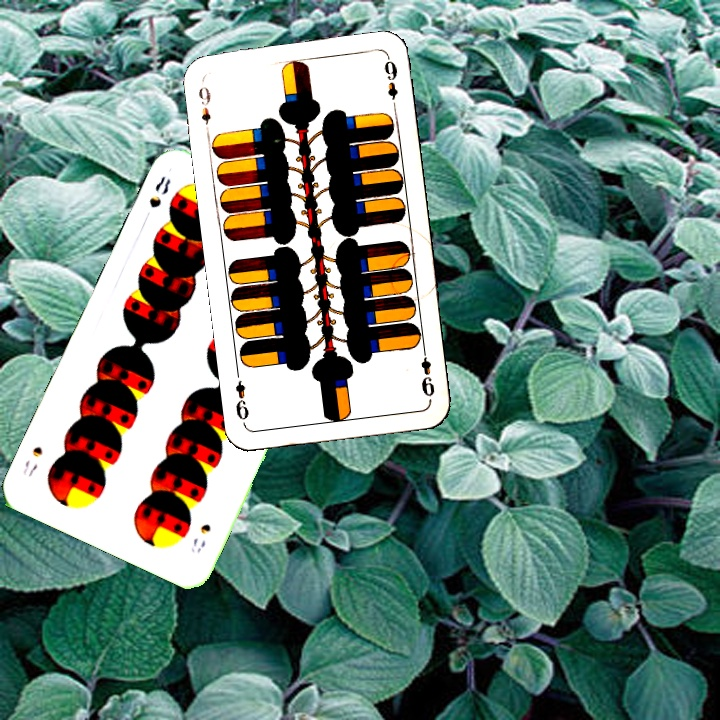E9: (416, 343, 438, 399), (194, 82, 214, 127)
S8: (145, 172, 174, 211), (186, 519, 214, 555)
